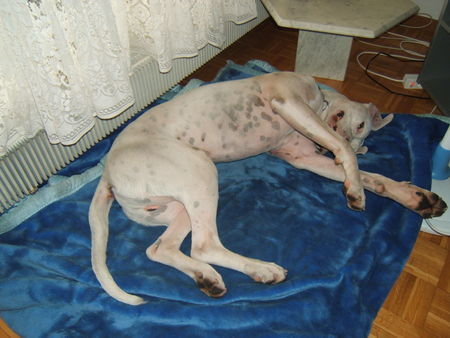dogo_argentino: (87, 69, 449, 305)
